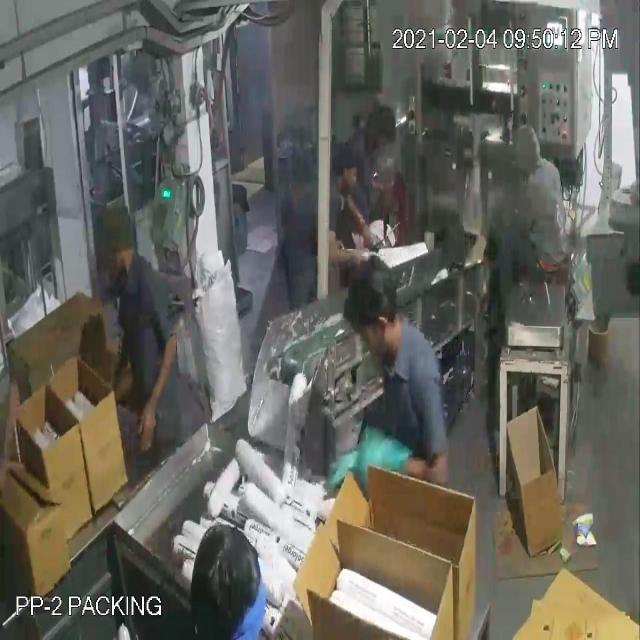No_Gloves: (48, 54, 380, 458)
